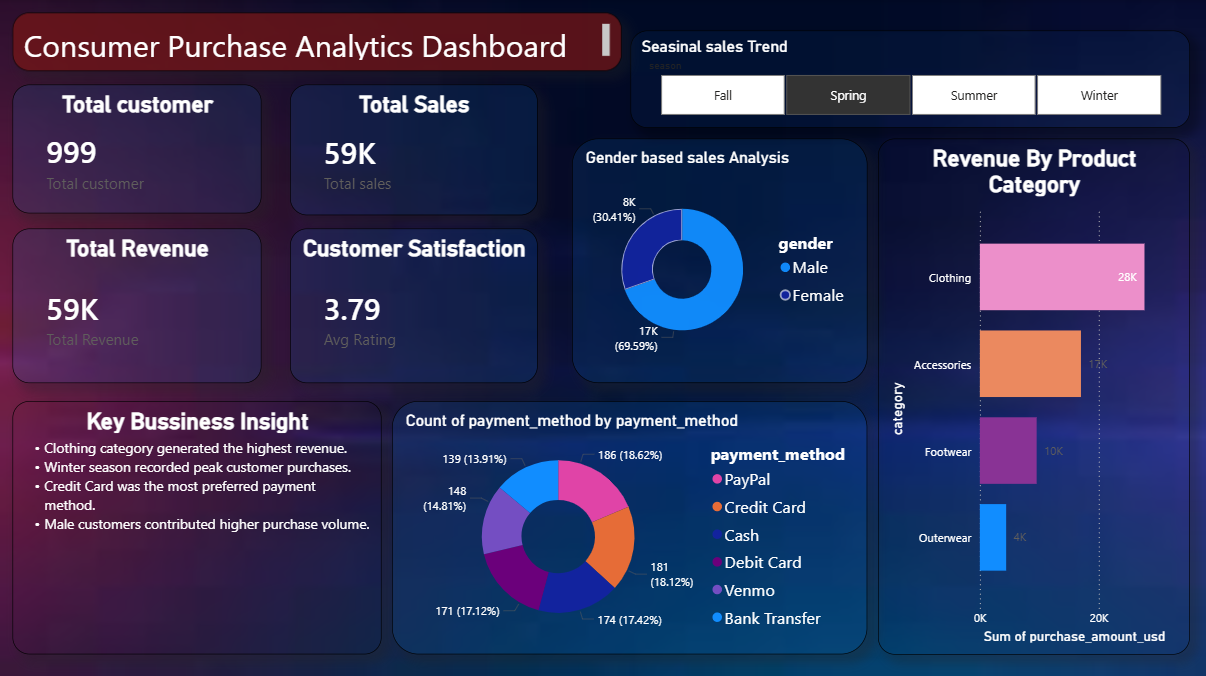

This screenshot's page, from the dashboard's own definition file:
{"tool":"powerbi","page":{"name":"Page 1","canvas":[1280,720],"ordinal":0},"visuals":[{"type":"donutChart","title":"Gender based sales Analysis","fields":{"Category":["customer_behaviour customers.gender"],"Y":["Sum(customer_behaviour customers.previous_purchases)"]},"box":[590.1,111.3,319.7,295.9],"z":0},{"type":"slicer","title":"Seasinal sales Trend","fields":{"Values":["customer_behaviour customers.season"]},"box":[674.4,0,588.5,111.3],"z":2},{"type":"cardVisual","title":"Total customer","fields":{"Data":["customer_behaviour customers.Total customer"]},"box":[14.3,90.7,264,136.8],"z":4},{"type":"cardVisual","title":"Total Revenue","fields":{"Data":["customer_behaviour customers.Total Revenue"]},"box":[14.3,243.4,264,163.8],"z":5},{"type":"cardVisual","title":"Total Sales","fields":{"Data":["customer_behaviour customers.Total sales"]},"box":[308.6,77.9,262.5,151.1],"z":6},{"type":"cardVisual","title":"Customer Satisfaction","fields":{"Data":["customer_behaviour customers.Avg Rating"]},"box":[308.6,251.3,262.5,155.9],"z":7},{"type":"textbox","box":[14.3,14.3,645.8,62],"z":8},{"type":"textbox","title":"Key Bussiness Insight","box":[14.3,426.3,391.3,268.8],"z":9},{"type":"donutChart","fields":{"Category":["customer_behaviour customers.payment_method"],"Y":["CountNonNull(customer_behaviour customers.payment_method)"]},"box":[416.7,426.3,504.2,268.8],"z":10},{"type":"barChart","title":"Revenue By Product Category","fields":{"Category":["customer_behaviour customers.category"],"Y":["Sum(customer_behaviour customers.purchase_amount_usd)"]},"box":[933.7,136.8,316.5,545.6],"z":11}]}

Visuals, with their boxes in screenshot pixels (x1, y1, x2, y2), scaled from the page's 1280x720 canvas onto the 1206x676 screenshot:
"Gender based sales Analysis" donutChart: rect(556, 104, 857, 382)
"Seasinal sales Trend" slicer: rect(635, 0, 1190, 104)
"Total customer" cardVisual: rect(13, 85, 262, 214)
"Total Revenue" cardVisual: rect(13, 229, 262, 382)
"Total Sales" cardVisual: rect(291, 73, 538, 215)
"Customer Satisfaction" cardVisual: rect(291, 236, 538, 382)
textbox: rect(13, 13, 622, 72)
"Key Bussiness Insight" textbox: rect(13, 400, 382, 653)
donutChart - customer_behaviour customers.payment_method x CountNonNull(customer_behaviour customers.payment_method): rect(393, 400, 868, 653)
"Revenue By Product Category" barChart: rect(880, 128, 1178, 641)
